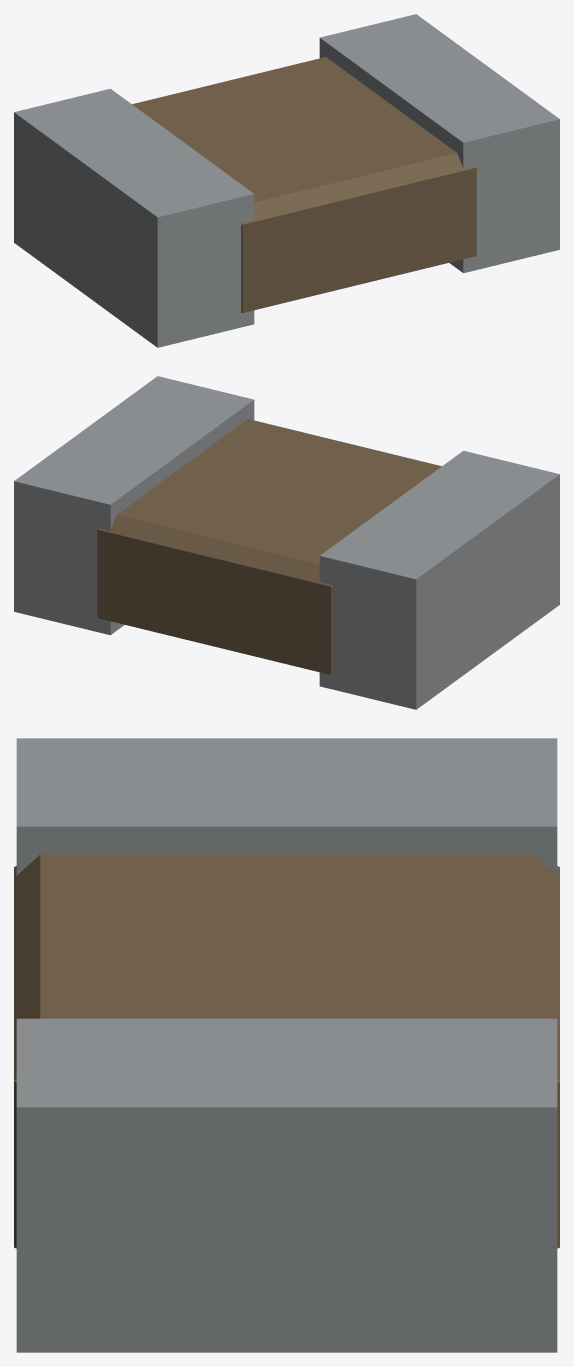
3 views of the same model, one above another, from view 1: azimuth 30°, elevation 25°; view 2: azimuth 150°, elevation 25°; view 3: azimuth 270°, elevation 25° (orthographic). The views are drawn at different scales.
Visible parts, largest first — view 1: C_S262__Solder, C_S262__Ceramic; view 2: C_S262__Solder, C_S262__Ceramic; view 3: C_S262__Solder, C_S262__Ceramic.
Part boxes in pixels (<box>): C_S262__Solder: <box>14,14,559,347</box>; C_S262__Ceramic: <box>132,57,476,312</box>; C_S262__Solder: <box>14,376,559,709</box>; C_S262__Ceramic: <box>97,419,441,674</box>; C_S262__Solder: <box>16,738,557,1352</box>; C_S262__Ceramic: <box>14,854,559,1248</box>.
Size of the model in its own units: 2 by 0.62 by 1.25.
